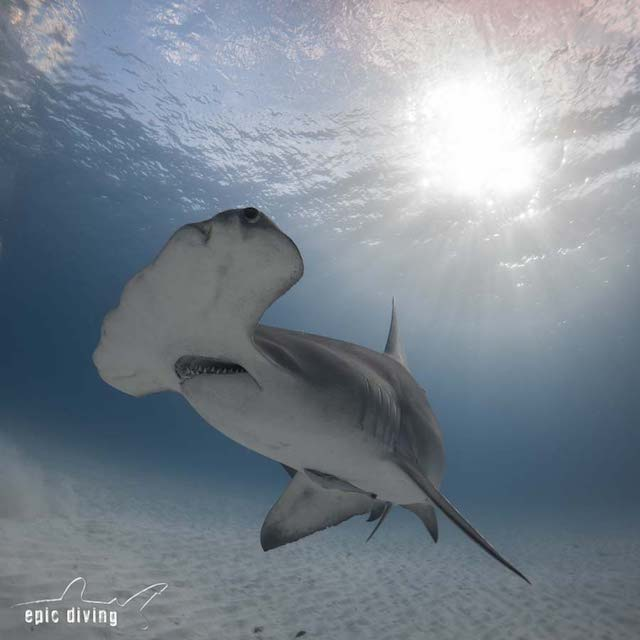hammerhead: (62, 161, 416, 467)
